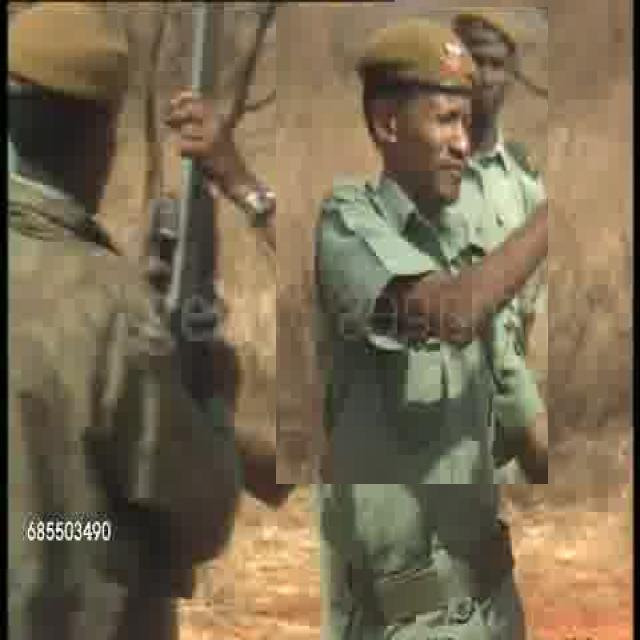poacher: (276, 7, 548, 484), (1, 11, 191, 600), (293, 2, 352, 180)
weapon: (166, 6, 207, 316)
